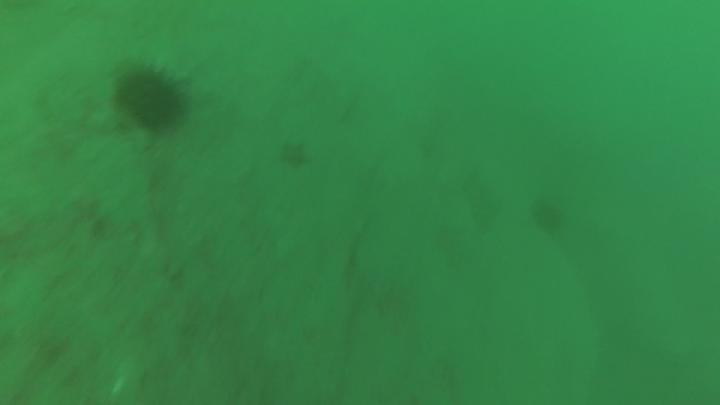echinus: (116, 71, 178, 130), (532, 200, 562, 233)
starfish: (279, 141, 307, 169)
